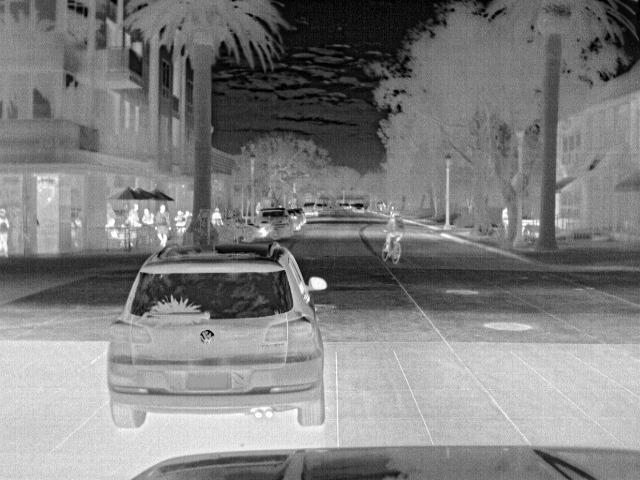car: (107, 244, 327, 429), (257, 208, 294, 239), (286, 212, 302, 230), (302, 200, 320, 216), (351, 202, 366, 214)
person: (383, 206, 406, 252), (154, 206, 173, 252), (1, 208, 13, 257), (124, 201, 143, 226), (208, 207, 227, 227), (499, 206, 511, 232)
